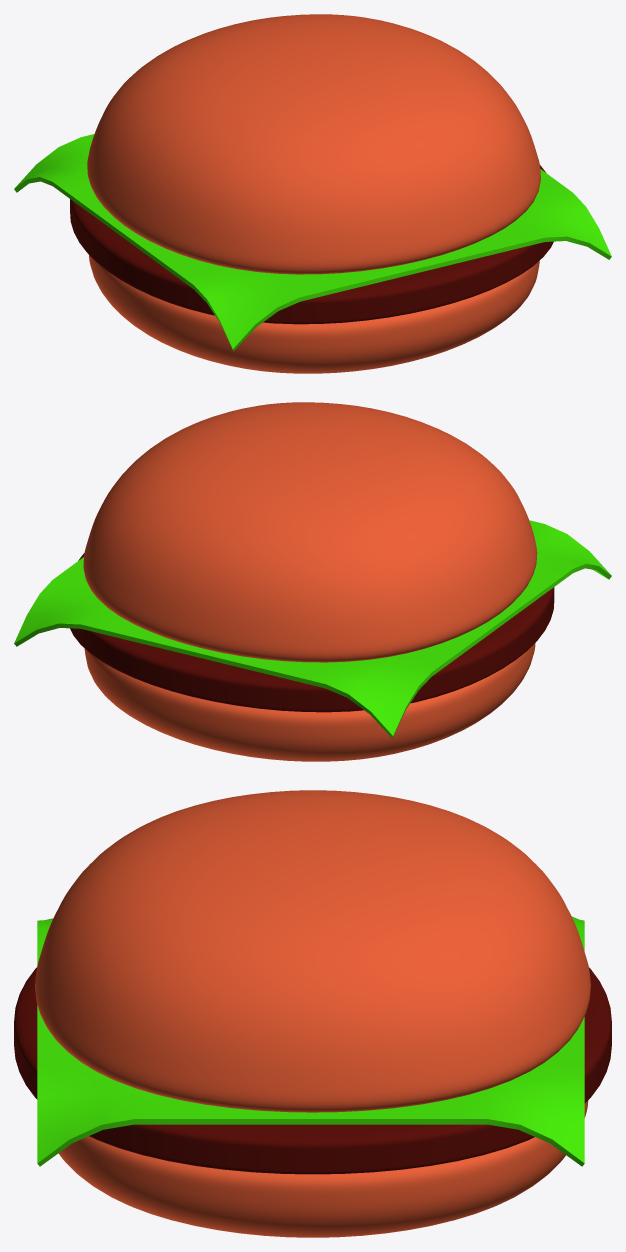
Rendered from hamburger.glb.
The picture shows the model from 3 angles, top to bottom: view 1: azimuth 30°, elevation 25°; view 2: azimuth 150°, elevation 25°; view 3: azimuth 270°, elevation 25°; orthographic projection. The views are drawn at different scales.
Parts seen in each view (by area): view 1: Cube.002, Cube, Plane, Cube.001; view 2: Cube.002, Cube, Plane, Cube.001; view 3: Cube.002, Cube, Plane, Cube.001.
Boxes of the visible parts, <box> form: Cube.002: <box>87,14,540,274</box>; Cube: <box>89,255,539,373</box>; Plane: <box>14,134,611,351</box>; Cube.001: <box>70,165,553,324</box>; Cube.002: <box>83,402,537,662</box>; Cube: <box>84,643,535,761</box>; Plane: <box>14,520,611,738</box>; Cube.001: <box>70,553,554,712</box>; Cube.002: <box>35,790,590,1112</box>; Cube: <box>58,1100,588,1237</box>; Plane: <box>37,916,584,1166</box>; Cube.001: <box>14,967,611,1174</box>.
Bounding box in the file's own units: 5.93 × 3.54 × 5.93.
